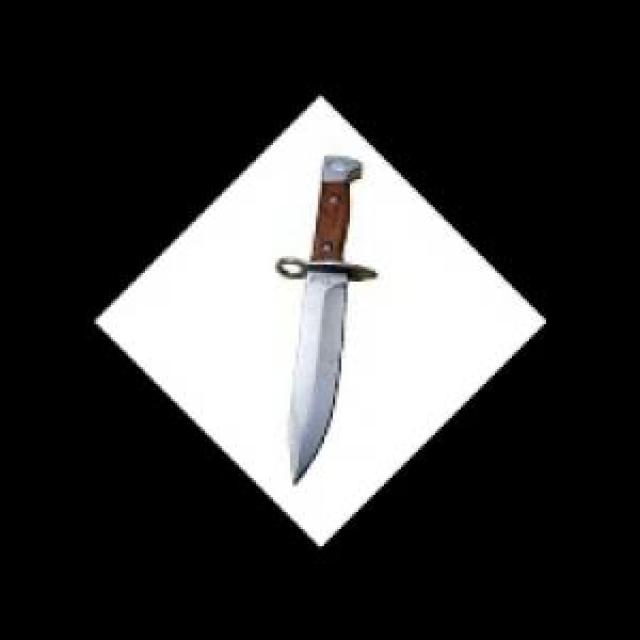knife: (275, 152, 376, 488)
